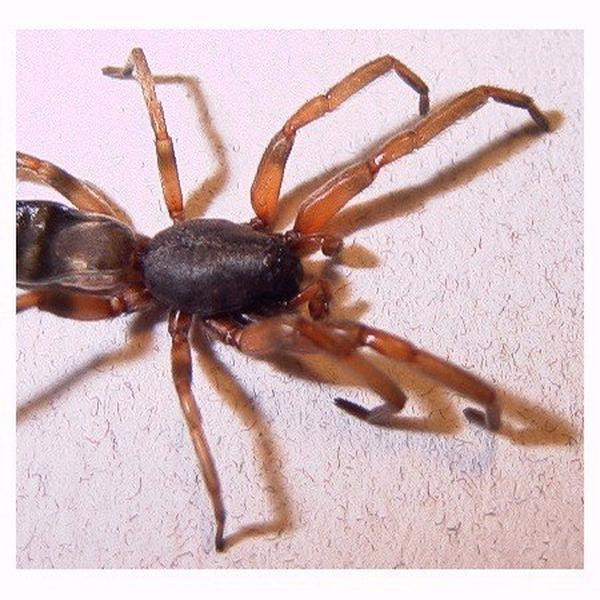White-Tailed_Spider: (17, 49, 548, 539)
